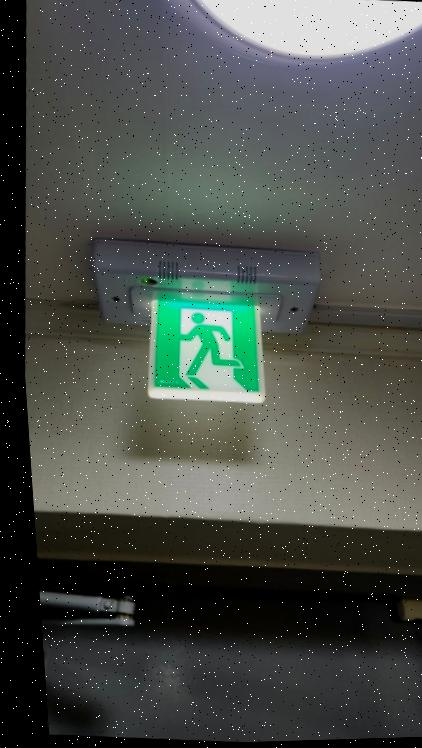emergency_exit: (146, 290, 266, 404)
